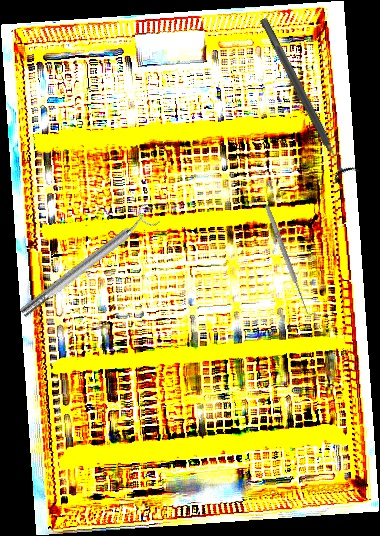Fixation Ring: (250, 12, 362, 186), (13, 202, 162, 323)
Hook Surgical: (262, 202, 317, 319)
